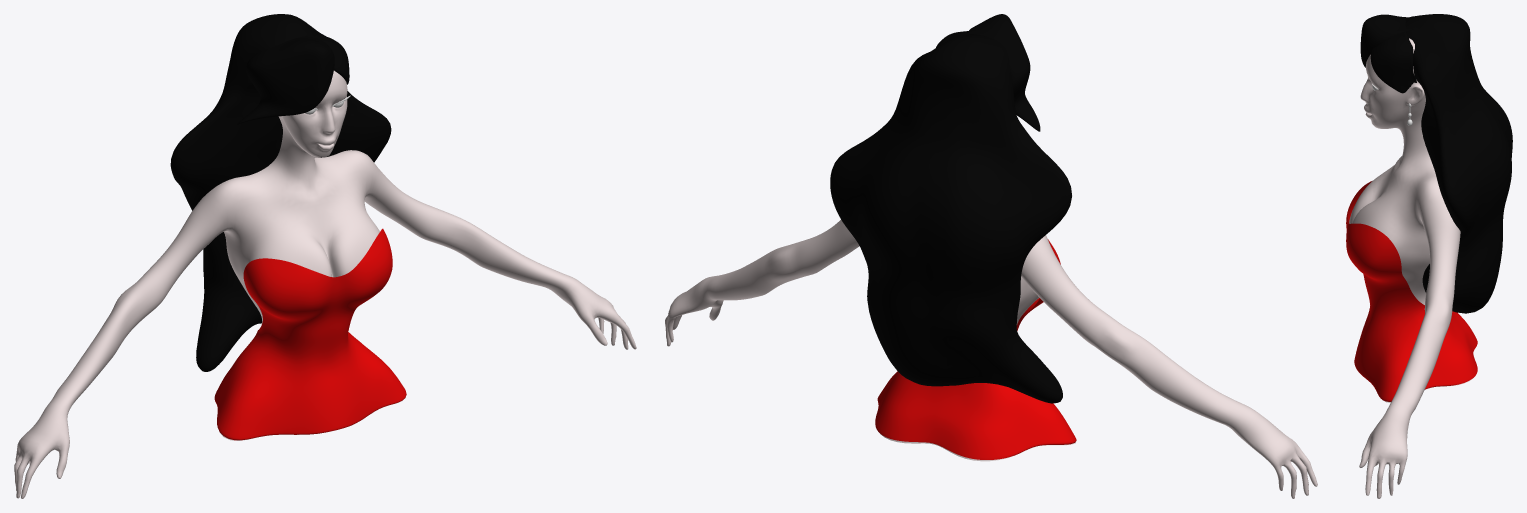
Rendered from Senorita-Aguirre_Modelado_Censored.fbx.
3 renders of one model, left to right at view 1: azimuth 30°, elevation 25°; view 2: azimuth 150°, elevation 25°; view 3: azimuth 270°, elevation 25°, orthographic. The views are drawn at different scales.
Parts seen in each view (by area): view 1: Señorita_Aguirre_Cuerpo_censored1:Group6620, Señorita_Aguirre_Vestido_censored:Group9294, Senorita_Aguirre_Pelo7, pasted__Senorita_Aguirre_Pelo4; view 2: Senorita_Aguirre_Pelo7, Señorita_Aguirre_Cuerpo_censored1:Group6620, Señorita_Aguirre_Vestido_censored:Group9294, pasted__Senorita_Aguirre_Pelo4; view 3: Señorita_Aguirre_Cuerpo_censored1:Group6620, Senorita_Aguirre_Pelo7, Señorita_Aguirre_Vestido_censored:Group9294, pasted__Senorita_Aguirre_Pelo6, pasted__Senorita_Aguirre_Pelo4.
Boxes of the visible parts, x1=… form: Señorita_Aguirre_Cuerpo_censored1:Group6620: x1=14, y1=70, x2=636, y2=498; Señorita_Aguirre_Vestido_censored:Group9294: x1=214, y1=228, x2=406, y2=440; Senorita_Aguirre_Pelo7: x1=170, y1=14, x2=391, y2=371; pasted__Senorita_Aguirre_Pelo4: x1=237, y1=29, x2=334, y2=124; Senorita_Aguirre_Pelo7: x1=830, y1=34, x2=1071, y2=403; Señorita_Aguirre_Cuerpo_censored1:Group6620: x1=665, y1=220, x2=1317, y2=498; Señorita_Aguirre_Vestido_censored:Group9294: x1=875, y1=239, x2=1076, y2=459; pasted__Senorita_Aguirre_Pelo4: x1=964, y1=14, x2=1040, y2=131; Señorita_Aguirre_Cuerpo_censored1:Group6620: x1=1349, y1=38, x2=1473, y2=498; Senorita_Aguirre_Pelo7: x1=1405, y1=14, x2=1512, y2=313; Señorita_Aguirre_Vestido_censored:Group9294: x1=1346, y1=181, x2=1477, y2=401; pasted__Senorita_Aguirre_Pelo6: x1=1370, y1=31, x2=1416, y2=93; pasted__Senorita_Aguirre_Pelo4: x1=1360, y1=14, x2=1415, y2=67.
Bounding box in the file's own units: 270 × 161 × 70.7.
